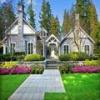chimneys: (75, 13, 79, 43)
